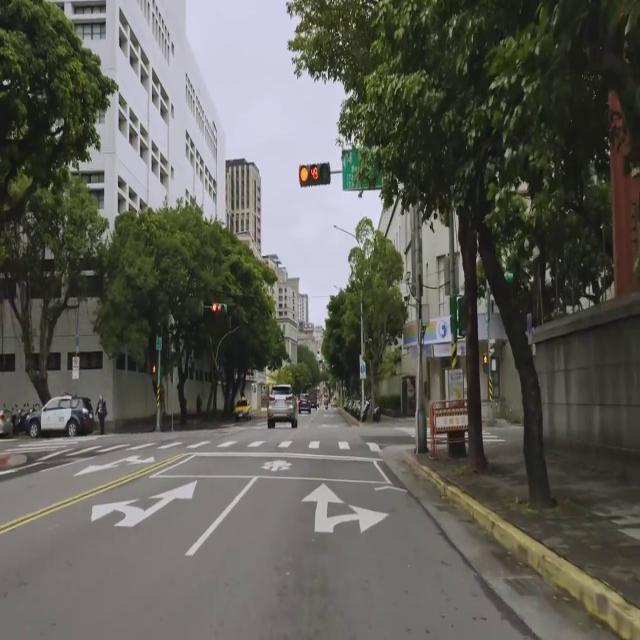red light: (299, 164, 330, 184), (211, 302, 227, 315)
